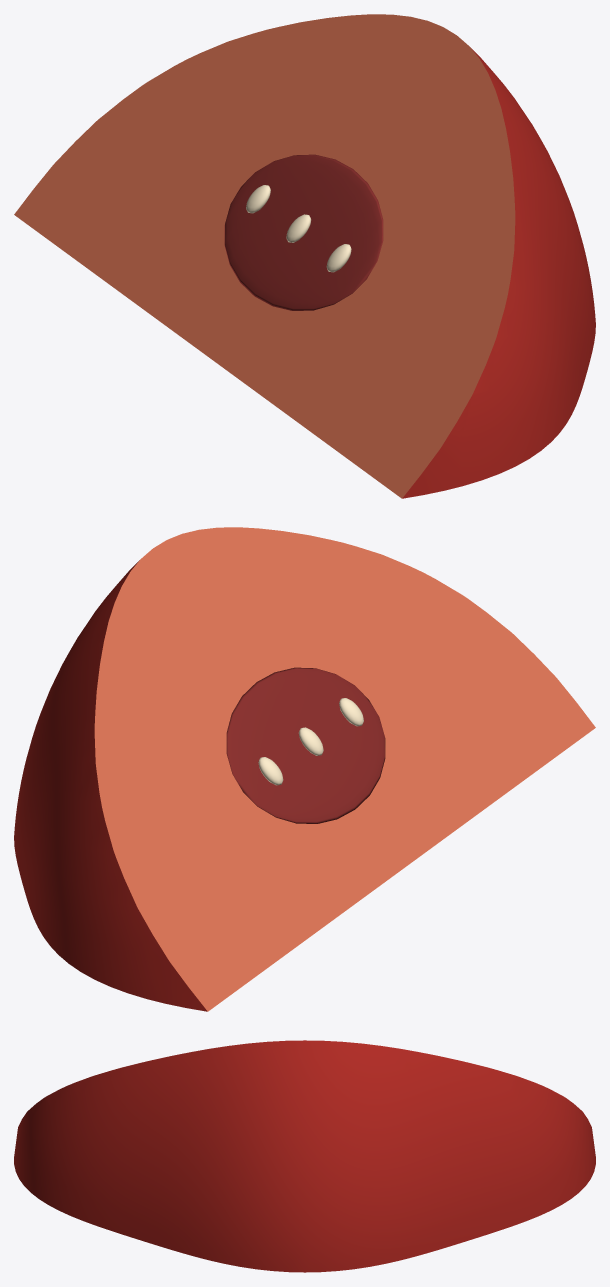
File: big_boy_chunk.glb
3 renders of one model, top to bottom at view 1: azimuth 30°, elevation 25°; view 2: azimuth 150°, elevation 25°; view 3: azimuth 270°, elevation 25°, orthographic. The views are drawn at different scales.
Parts seen in each view (by area): view 1: Prepared Big Boy half, Fresh Big Boy diagonal chamber, Fresh Big Boy diagonal seed; view 2: Prepared Big Boy half, Fresh Big Boy diagonal chamber, Fresh Big Boy diagonal seed; view 3: Prepared Big Boy half.
Boxes of the visible parts, x1=… form: Prepared Big Boy half: x1=14, y1=14, x2=595, y2=498; Fresh Big Boy diagonal chamber: x1=224, y1=154, x2=383, y2=310; Fresh Big Boy diagonal seed: x1=246, y1=185, x2=351, y2=272; Prepared Big Boy half: x1=14, y1=527, x2=595, y2=1011; Fresh Big Boy diagonal chamber: x1=226, y1=667, x2=385, y2=823; Fresh Big Boy diagonal seed: x1=258, y1=698, x2=363, y2=785; Prepared Big Boy half: x1=14, y1=1040, x2=595, y2=1272.
Size of the model in its own units: 0.8177 by 0.5706 by 1.56.
